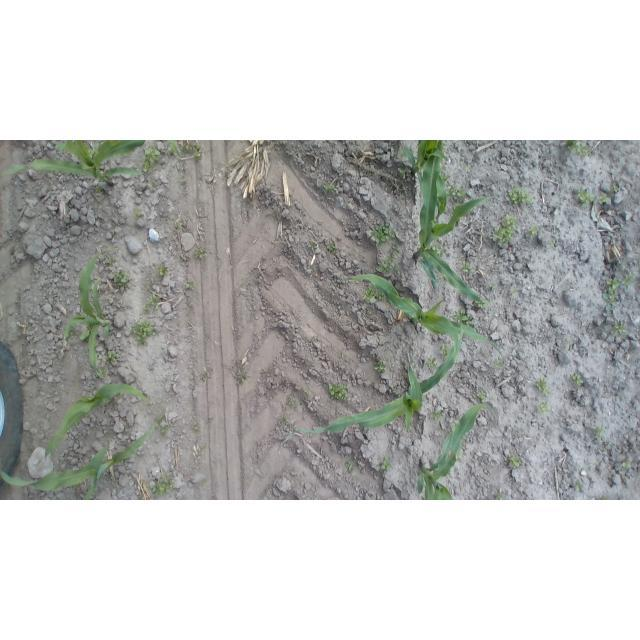Maize: (279, 333, 463, 448), (344, 274, 505, 357), (1, 422, 155, 500), (414, 141, 482, 302), (46, 384, 151, 462), (63, 248, 114, 381), (417, 404, 484, 500), (4, 141, 146, 186), (403, 141, 446, 218)
Weeds: (492, 214, 517, 248), (129, 318, 158, 347), (372, 223, 397, 248), (602, 277, 620, 311), (151, 475, 175, 497), (505, 188, 533, 205), (141, 146, 159, 172), (363, 285, 387, 304), (328, 381, 350, 401), (446, 185, 468, 204), (377, 256, 400, 274), (567, 140, 592, 156), (536, 375, 552, 397), (184, 142, 203, 160), (452, 309, 472, 325), (143, 294, 161, 311), (114, 269, 130, 288), (610, 323, 629, 337), (155, 417, 169, 436), (576, 190, 593, 204), (79, 323, 91, 342), (441, 345, 454, 360), (431, 242, 445, 255), (391, 167, 409, 177), (620, 275, 636, 286), (538, 401, 551, 414), (427, 358, 440, 371), (476, 296, 490, 308), (597, 192, 611, 204), (373, 360, 387, 372), (571, 372, 584, 384), (509, 453, 520, 467), (460, 261, 472, 273), (107, 351, 120, 362), (381, 455, 391, 469), (595, 427, 606, 439), (529, 224, 540, 236), (396, 150, 407, 162), (157, 264, 168, 276), (323, 184, 337, 193), (440, 170, 449, 184), (95, 368, 106, 379), (601, 441, 612, 452), (307, 241, 318, 252), (195, 248, 205, 260), (278, 416, 288, 427), (478, 391, 488, 402), (622, 459, 633, 469), (346, 459, 355, 471), (611, 180, 620, 192), (392, 244, 400, 257), (133, 207, 143, 217), (87, 147, 97, 157), (457, 444, 463, 460), (432, 410, 441, 420), (96, 186, 105, 195), (238, 373, 245, 384), (575, 482, 583, 491), (187, 282, 195, 291), (191, 423, 201, 430), (71, 325, 77, 336), (327, 243, 335, 251), (105, 258, 114, 265), (95, 339, 102, 348), (494, 493, 502, 500), (547, 240, 554, 248), (176, 221, 183, 229), (199, 373, 208, 379), (511, 288, 517, 296), (432, 218, 438, 226), (168, 146, 174, 154), (300, 400, 307, 406), (495, 361, 501, 368), (463, 163, 469, 170), (303, 387, 309, 394), (72, 141, 78, 148), (147, 183, 153, 189), (288, 400, 294, 406), (180, 179, 186, 185), (452, 423, 457, 430), (602, 496, 610, 500), (98, 140, 104, 145), (201, 446, 208, 450), (490, 283, 495, 287), (124, 153, 128, 157), (310, 432, 314, 436)
